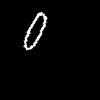chain: (24, 13, 46, 49)
